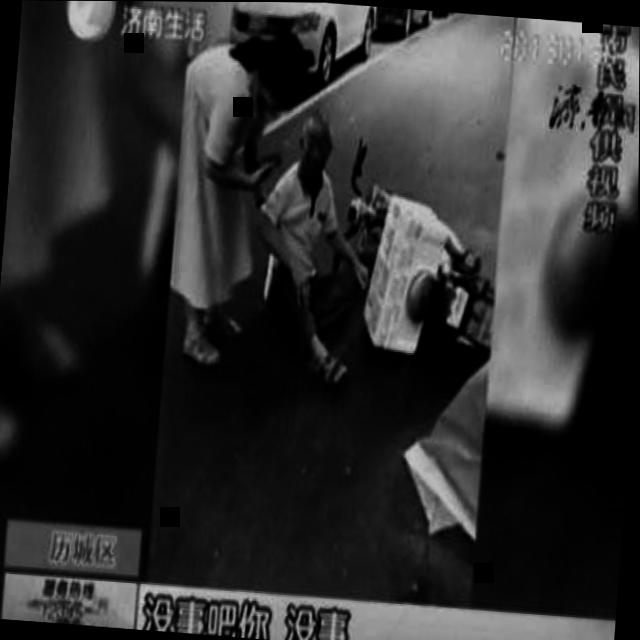Fall-Detected: (243, 108, 385, 387)
